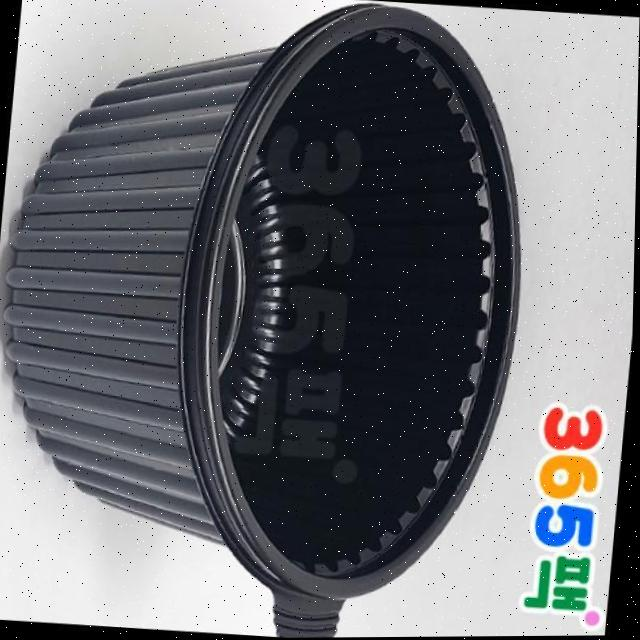disposable: (0, 0, 558, 640)
